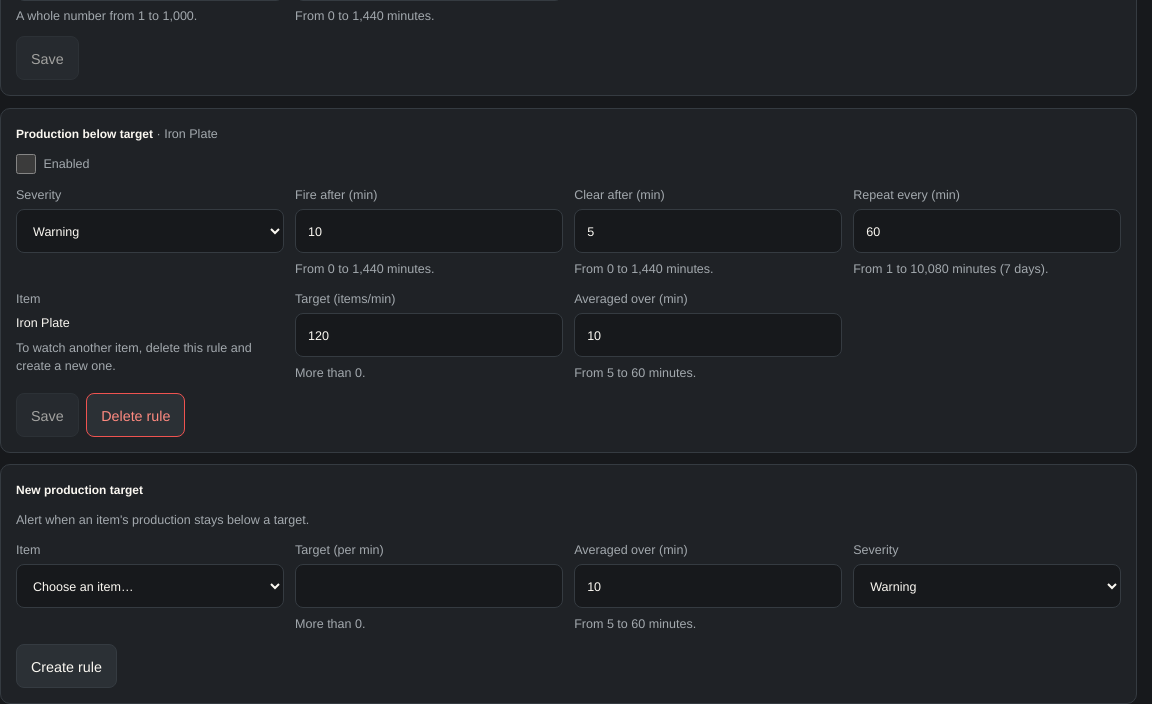
Test case: New production target › says what's missing before sending anything
(page scrolled)
What coordinates should you click on to do the following:
click the button "Create rule"
I would click on:
 (66, 666)
Its box is [16, 644, 117, 688].
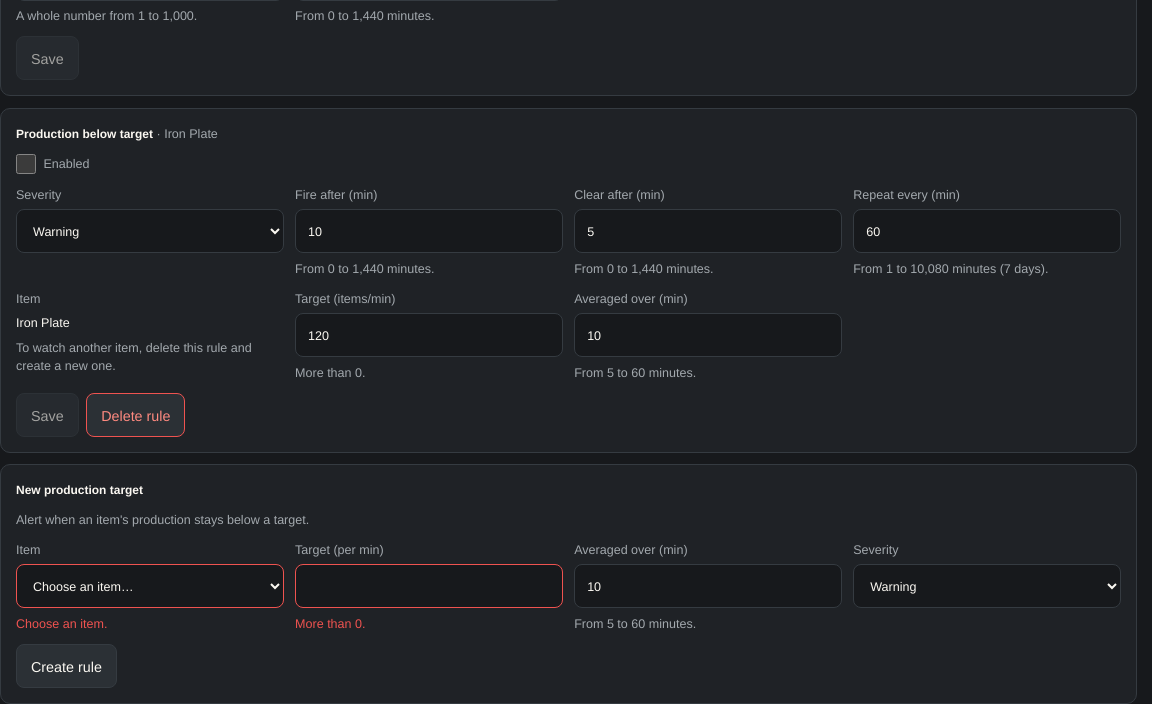
Expected: the text "More than 0." below "Target (per min)" is shown, [295, 615, 366, 631]
Expected: the text "Choose an item." is shown, [16, 615, 107, 631]
